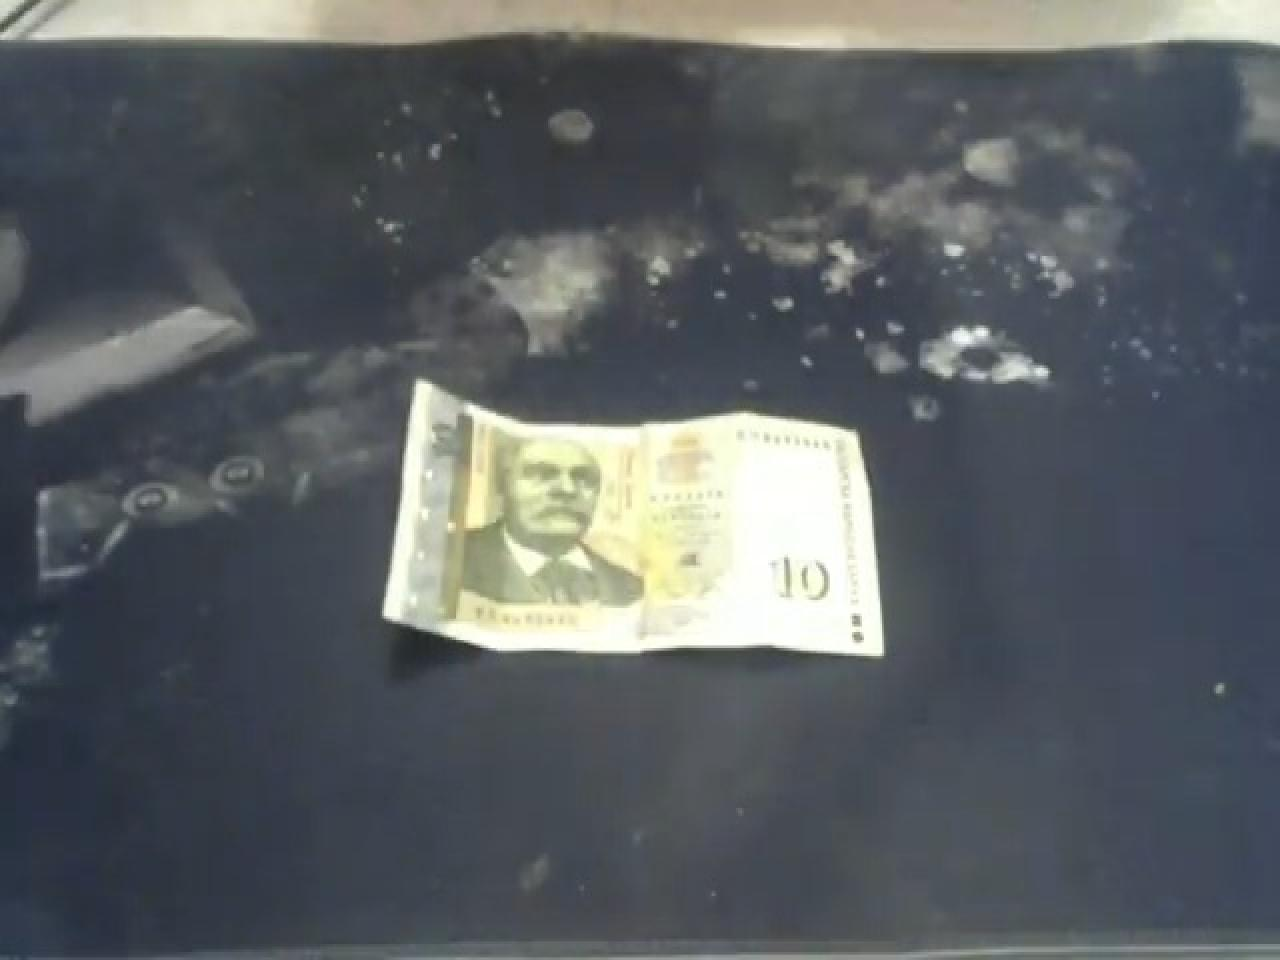10leva: (378, 384, 888, 664)
